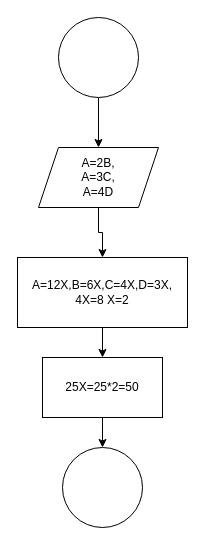
The diagram is 205 pixels wide and 545 high, and some of its shapes have lost their labels. Each missing label, with the centre of its shape:
"BAŞLA" goes at (x=98, y=57).
"DUR" goes at (x=102, y=487).
